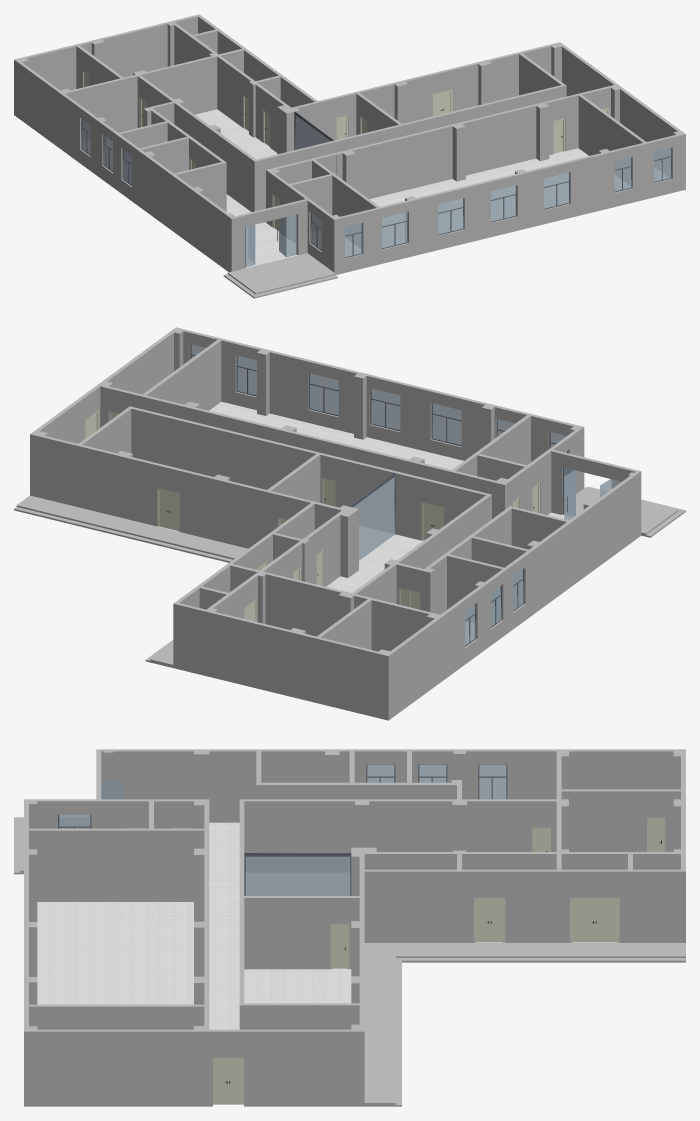
The model's file is floorOne.FBX.
The picture shows the model from 3 angles, top to bottom: view 1: azimuth 30°, elevation 25°; view 2: azimuth 150°, elevation 25°; view 3: azimuth 270°, elevation 25°; orthographic projection. The views are drawn at different scales.
Parts seen in each view (by area): view 1: 一层; view 2: 一层; view 3: 一层.
Boxes of the visible parts, left/top/right/bottom form: 一层: left=14, top=14, right=685, bottom=298; 一层: left=14, top=327, right=685, bottom=720; 一层: left=14, top=749, right=685, bottom=1106.
Bounding box in the file's own units: 32840 × 4000 × 32420.
6 materials, 1 textured.
